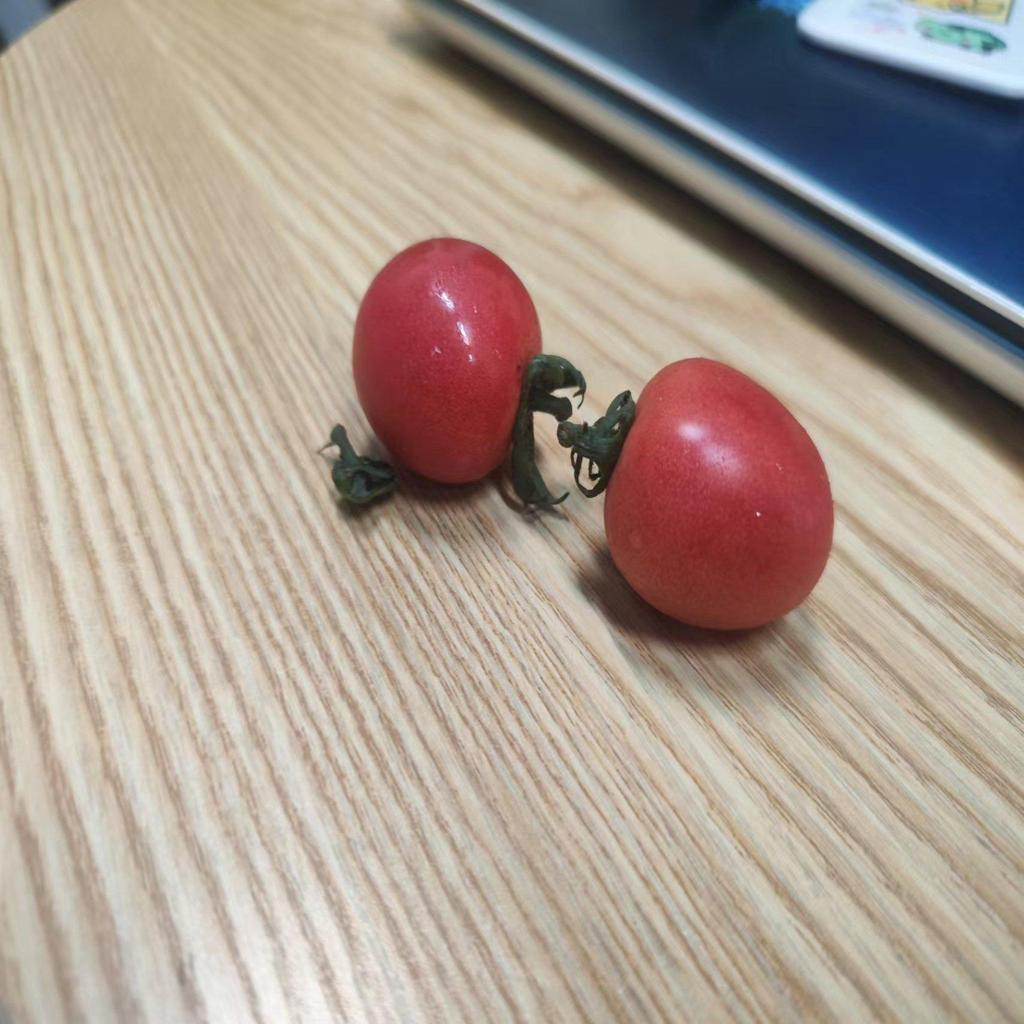tomato: (614, 355, 837, 637), (356, 236, 547, 480)
